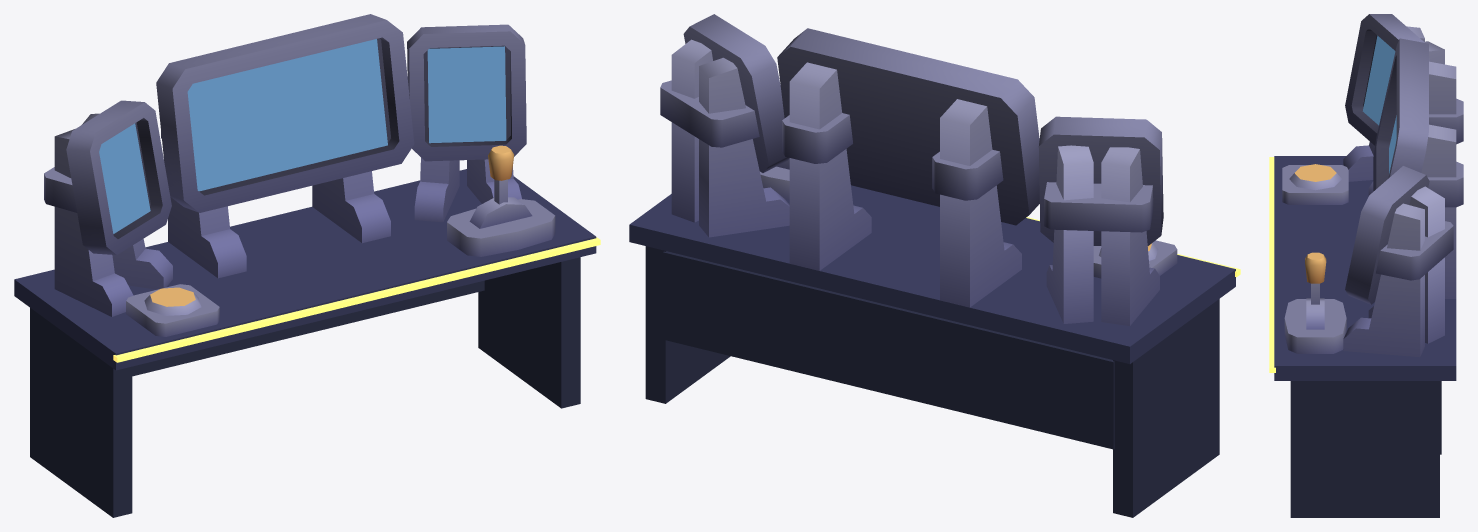
Rendered from fy_station.glb.
The picture shows the model from 3 angles, left to right: view 1: azimuth 30°, elevation 25°; view 2: azimuth 150°, elevation 25°; view 3: azimuth 270°, elevation 25°; orthographic projection. The views are drawn at different scales.
Visible parts, largest first — view 1: desk_top, screen-small (×2), desk_leg (×2), screen-wide, scr_main, scr_right, lever-single, desk_edge, desk_under, scr_left, button-floor-round, button (+1 smaller); view 2: screen-wide, screen-small (×2), desk_under, desk_top, desk_leg (×2), button-floor-round, lever-single; view 3: desk_leg, screen-small (×2), desk_top, screen-wide, lever-single, button-floor-round, scr_left, desk_edge, button, handle.
Boxes of the visible parts, x1,y1,x2,y2 form: desk_top: (14, 169, 596, 370); screen-small (×2): (44, 24, 526, 316); desk_leg (×2): (30, 257, 580, 517); screen-wide: (156, 14, 414, 278); scr_main: (187, 39, 387, 191); scr_right: (427, 46, 506, 143); lever-single: (447, 197, 555, 256); desk_edge: (113, 237, 600, 362); desk_under: (132, 280, 484, 376); scr_left: (99, 123, 150, 233); button-floor-round: (126, 284, 219, 336); button: (144, 287, 201, 315); screen-wide: (777, 28, 1039, 307); screen-small (×2): (660, 14, 1163, 325); desk_under: (663, 251, 1114, 449); desk_top: (629, 185, 1235, 363); desk_leg (×2): (645, 246, 1219, 517); button-floor-round: (1093, 240, 1177, 278); lever-single: (760, 158, 789, 199); desk_leg: (1290, 381, 1439, 517); screen-small (×2): (1343, 14, 1453, 357); desk_top: (1274, 156, 1456, 380); screen-wide: (1373, 38, 1463, 298); lever-single: (1284, 298, 1346, 353); button-floor-round: (1282, 165, 1348, 204); scr_left: (1362, 35, 1395, 125); desk_edge: (1269, 157, 1275, 372); button: (1289, 164, 1341, 190); handle: (1305, 252, 1326, 304).
Bounding box in the file's own units: 3.02 × 2.22 × 1.17.
Materials: 13 (5 with a texture image).
